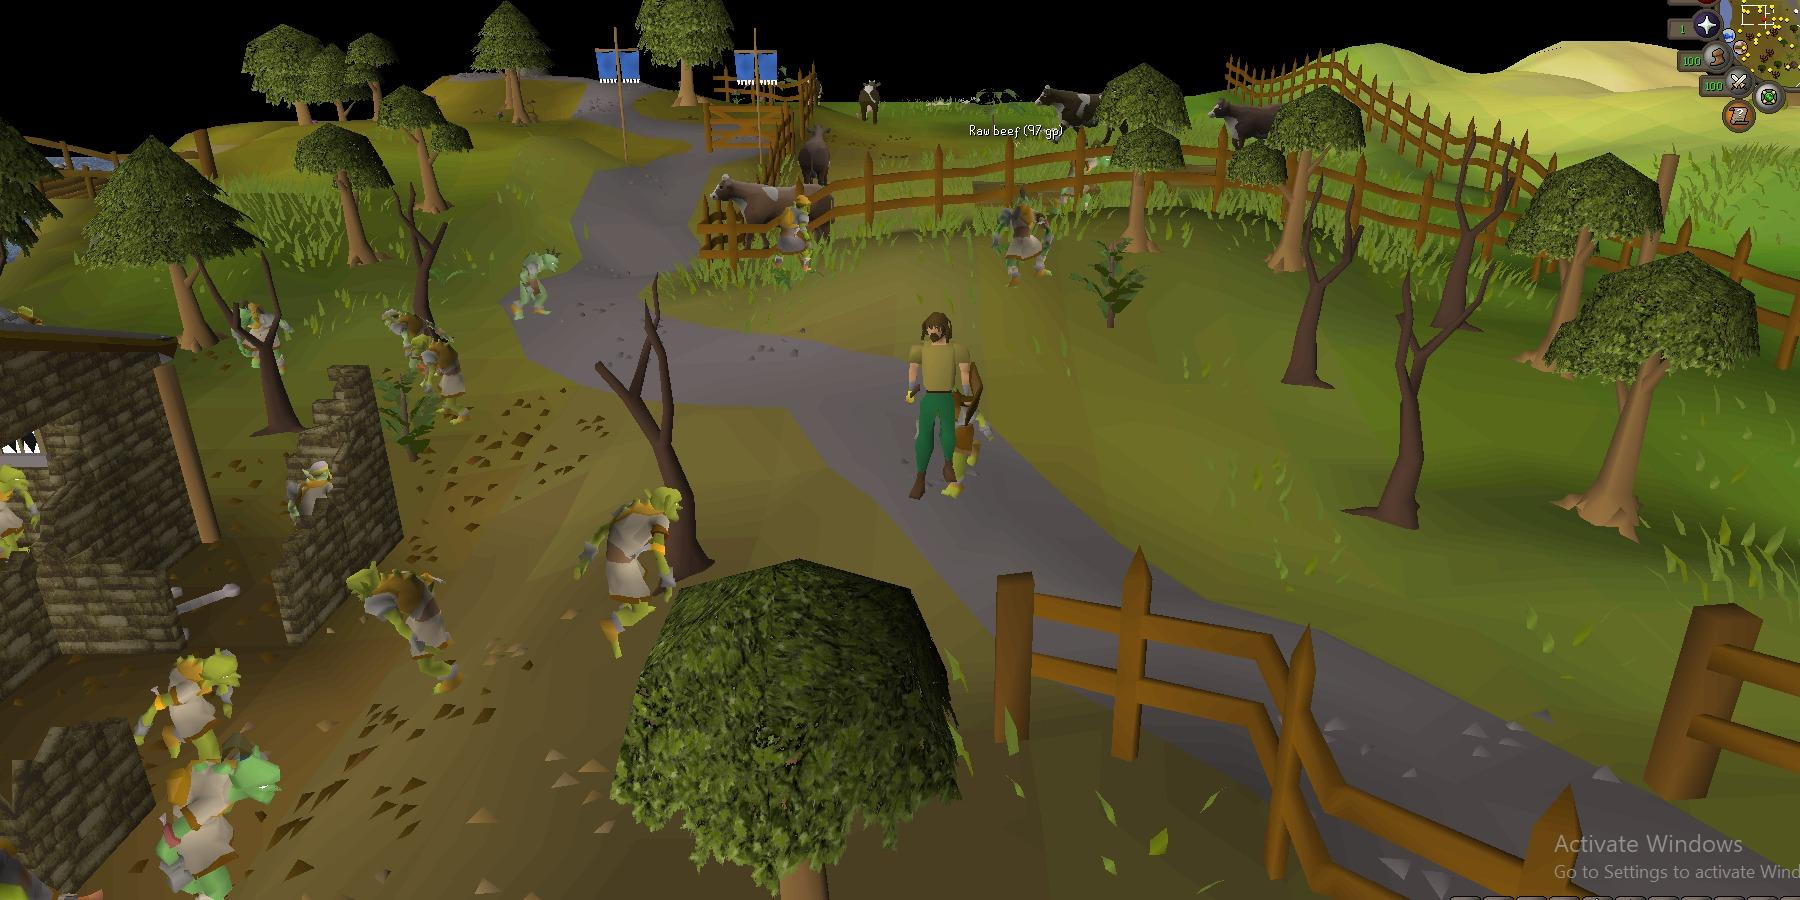goblin: (569, 484, 686, 661), (157, 744, 285, 900), (342, 556, 465, 704), (129, 646, 243, 766), (925, 390, 993, 498), (987, 189, 1054, 289), (379, 308, 455, 391), (409, 333, 474, 427), (281, 453, 344, 532), (231, 300, 294, 378), (1056, 137, 1114, 214), (509, 245, 562, 321), (0, 465, 40, 560), (771, 193, 815, 273)
